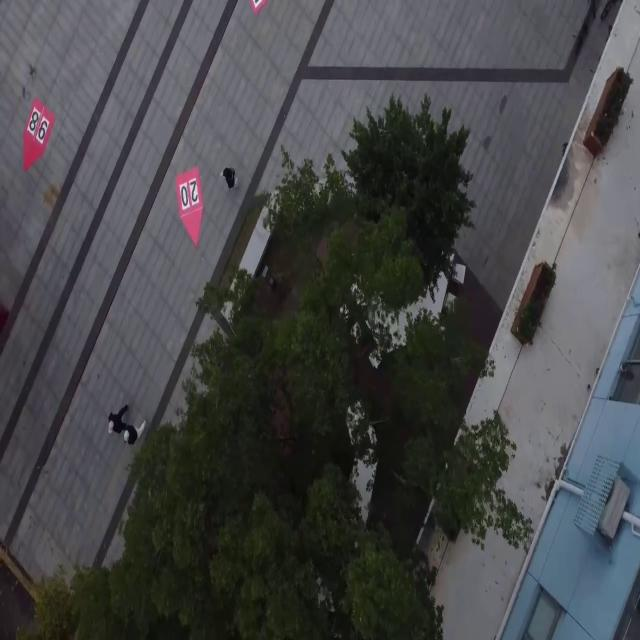-sign-: (21, 92, 58, 178), (175, 165, 203, 247)
